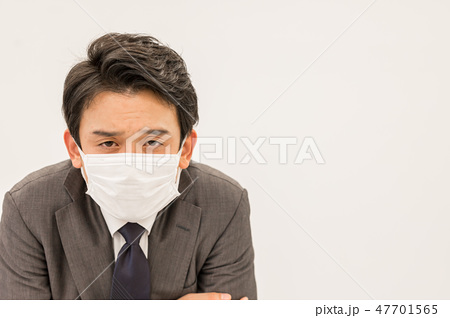mask: (81, 150, 185, 229)
